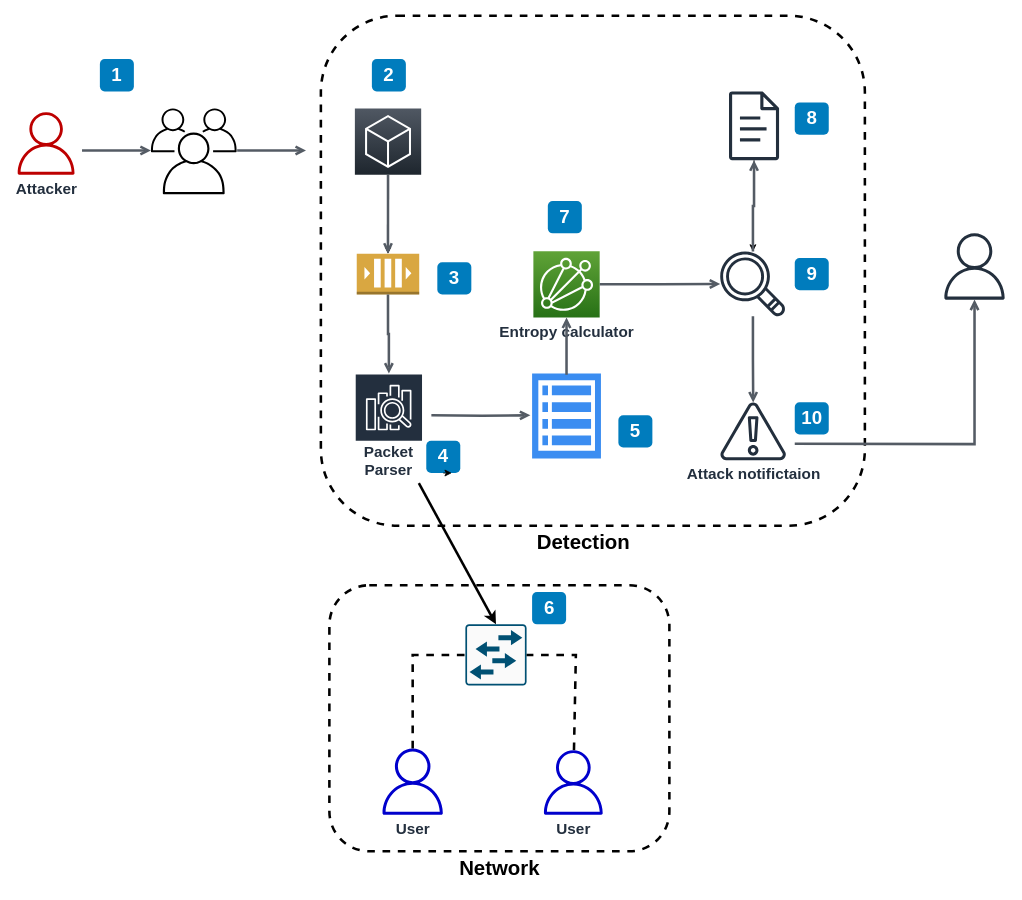
The diagram is 1022 pixels wide and 900 high, and some of its shapes have lost their labels. The shapes that lost their labels are listed below. From the top down, each one's box as (x1, y1, x2, y2) in pixels, then its label:
(354, 108, 421, 175): Packet Collector
(728, 91, 779, 160): Counter
(150, 108, 236, 194): Compromised devices
(356, 253, 419, 295): Packet Queue
(720, 251, 785, 316): Comparison tool
(941, 233, 1007, 299): Admin
(532, 373, 601, 458): IP address hash table
(465, 623, 527, 686): Network switch
